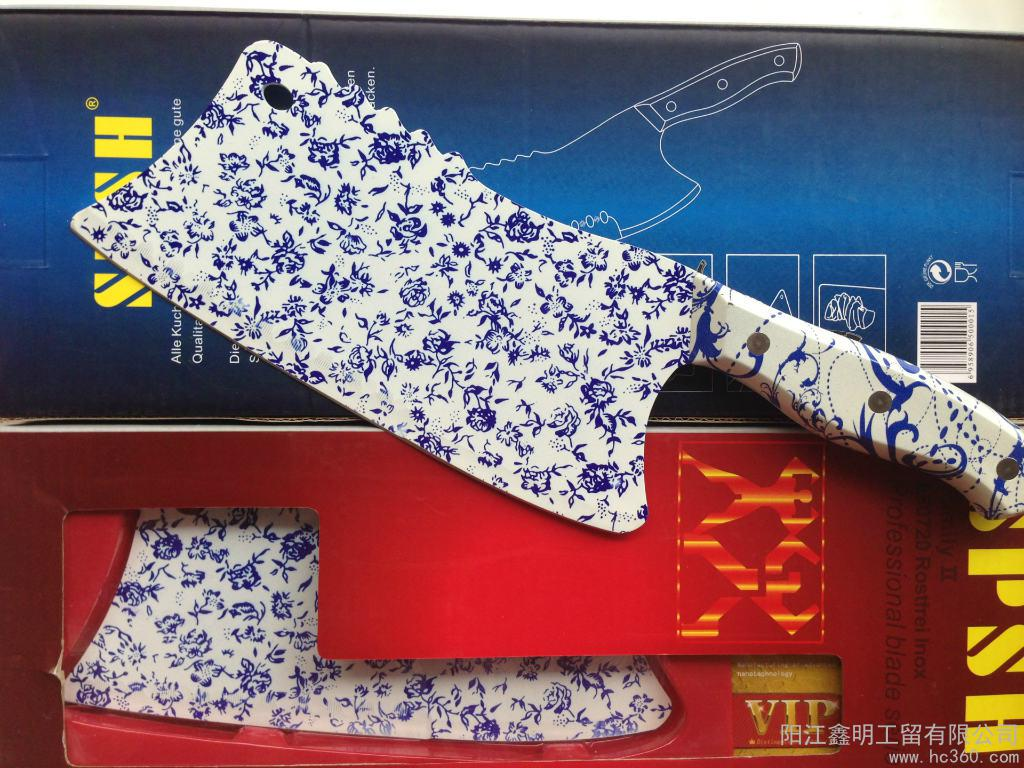knief: (68, 83, 1001, 511)
